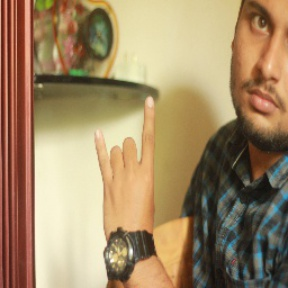V: (91, 94, 165, 239)
